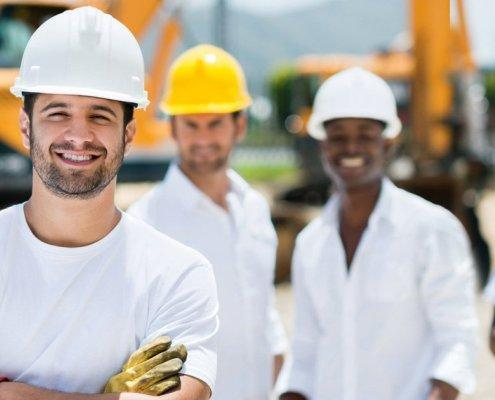helmet: (10, 8, 148, 109), (309, 68, 402, 138), (164, 44, 255, 115)
